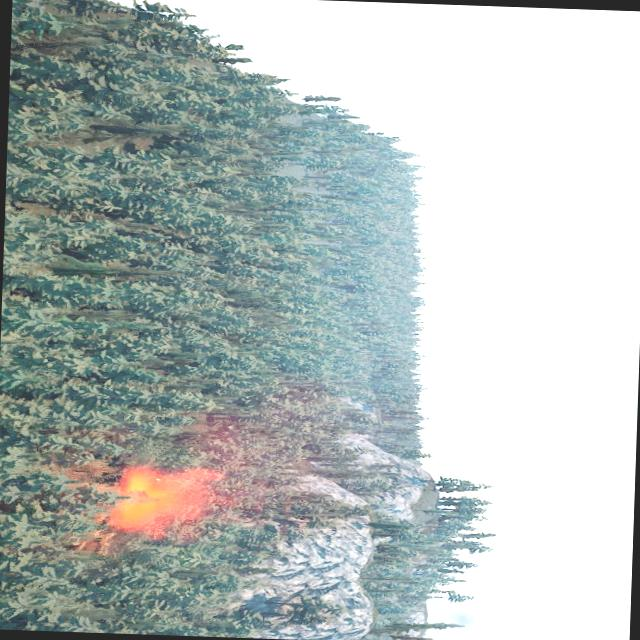fire: (101, 464, 216, 536)
smoke: (178, 384, 410, 534)
